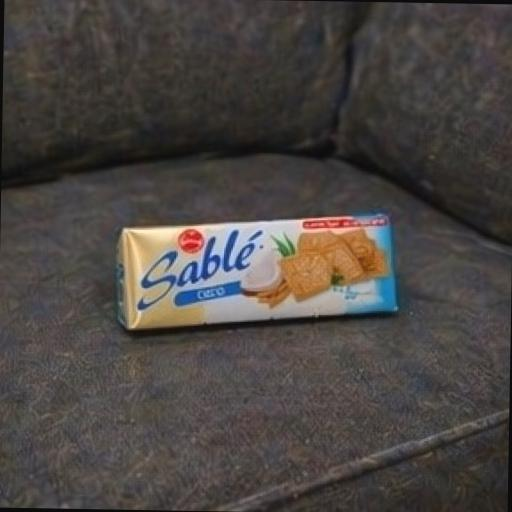sabl: (88, 154, 468, 408)
